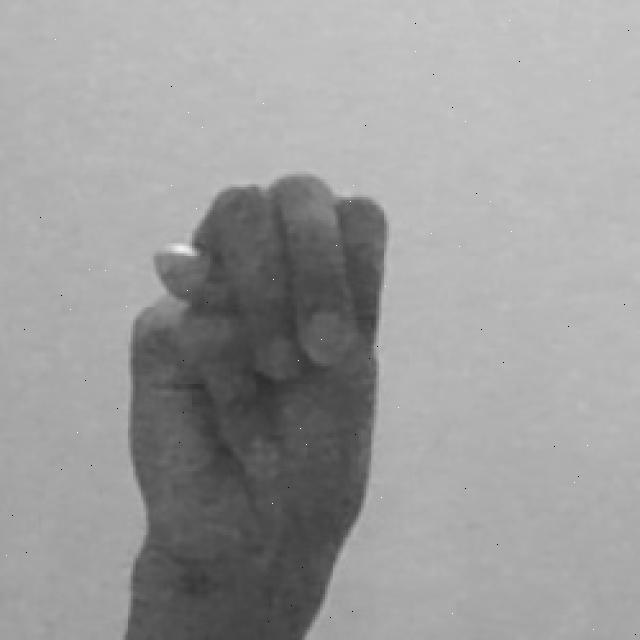M: (108, 165, 394, 640)
